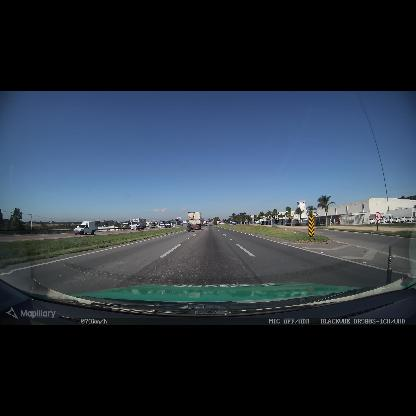I-SA: (230, 221, 236, 225)
O-MP: (308, 216, 314, 236)
R-19: (375, 212, 381, 221)
